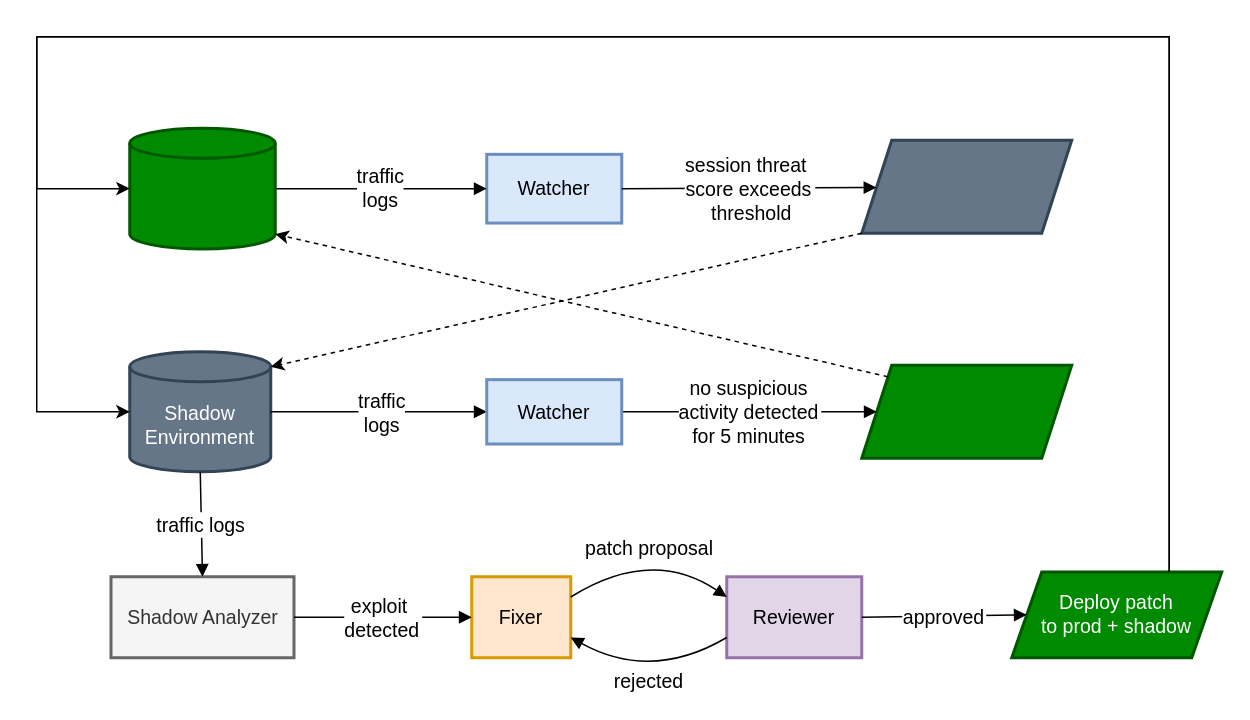
Some shapes in this 1250 by 720 pixel diagram are drawn without their labels. The shapes that lost their labels are listed below. From the top down, each one's box as (x1, y1, x2, y2) in pixels, then its label:
(128, 126, 276, 250): Production Environment
(860, 138, 1072, 234): Session gets redirected to shadow
(860, 363, 1072, 459): Session gets redirected to prod
